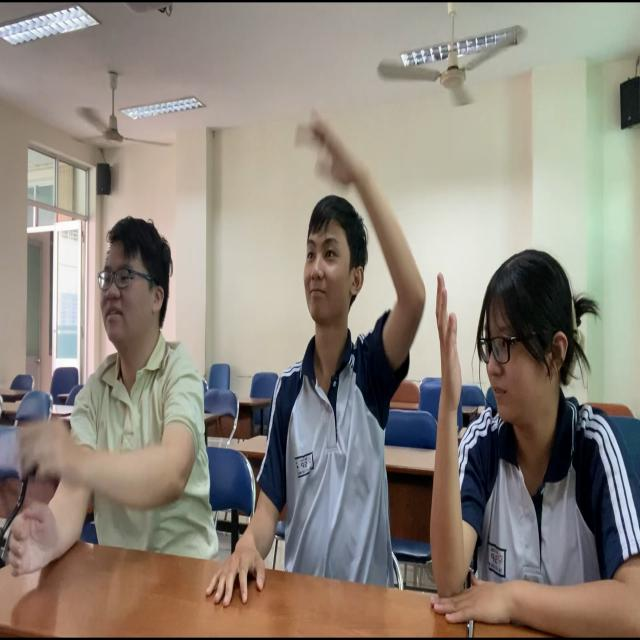raise_hand: (217, 109, 435, 629), (427, 228, 640, 640)
